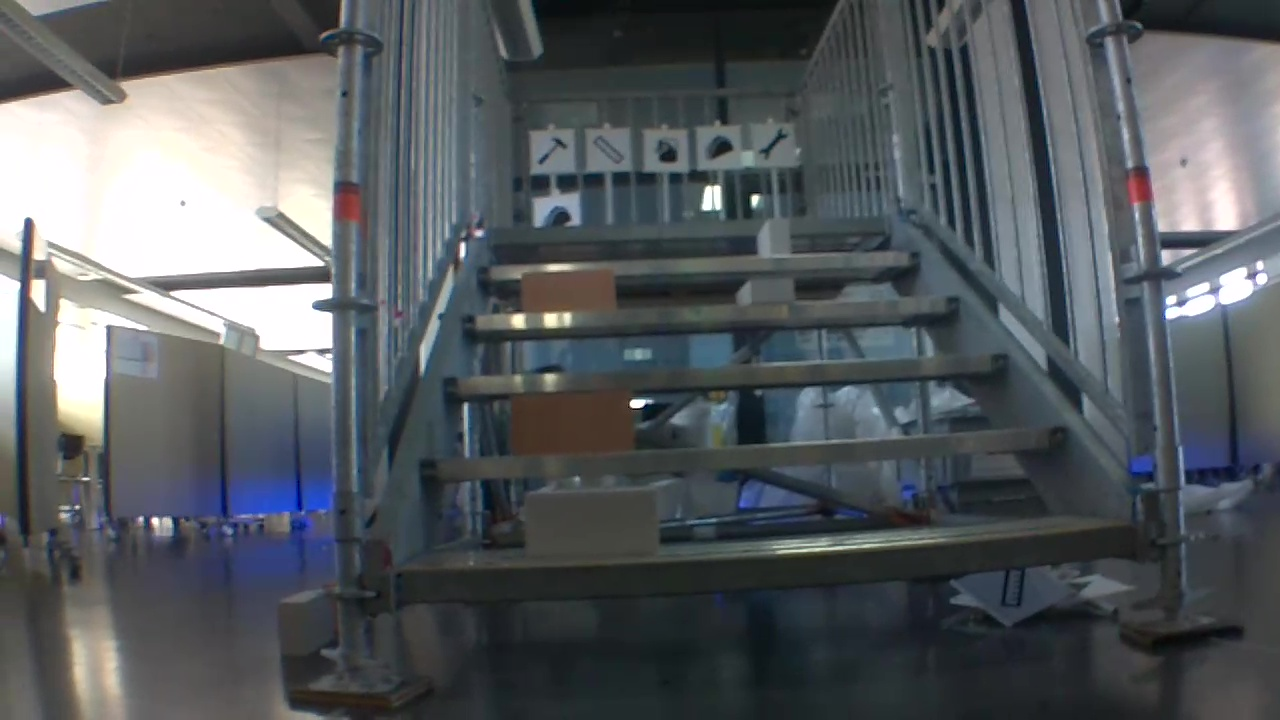brick: (525, 488, 658, 553), (514, 393, 629, 450), (523, 269, 613, 311), (276, 590, 325, 657), (738, 279, 793, 302), (757, 220, 789, 253)
bucket: (649, 131, 683, 167)
edge: (399, 524, 1140, 599), (421, 425, 1068, 477), (446, 352, 1005, 392), (468, 294, 957, 330), (481, 252, 922, 278), (484, 218, 888, 236)
hammer: (536, 134, 568, 169)
ruler: (586, 132, 628, 166)
stairs: (287, 2, 1244, 710)
steps: (394, 207, 1150, 614)
taco: (700, 128, 736, 162), (537, 201, 575, 228)
wrench: (752, 123, 793, 163)
